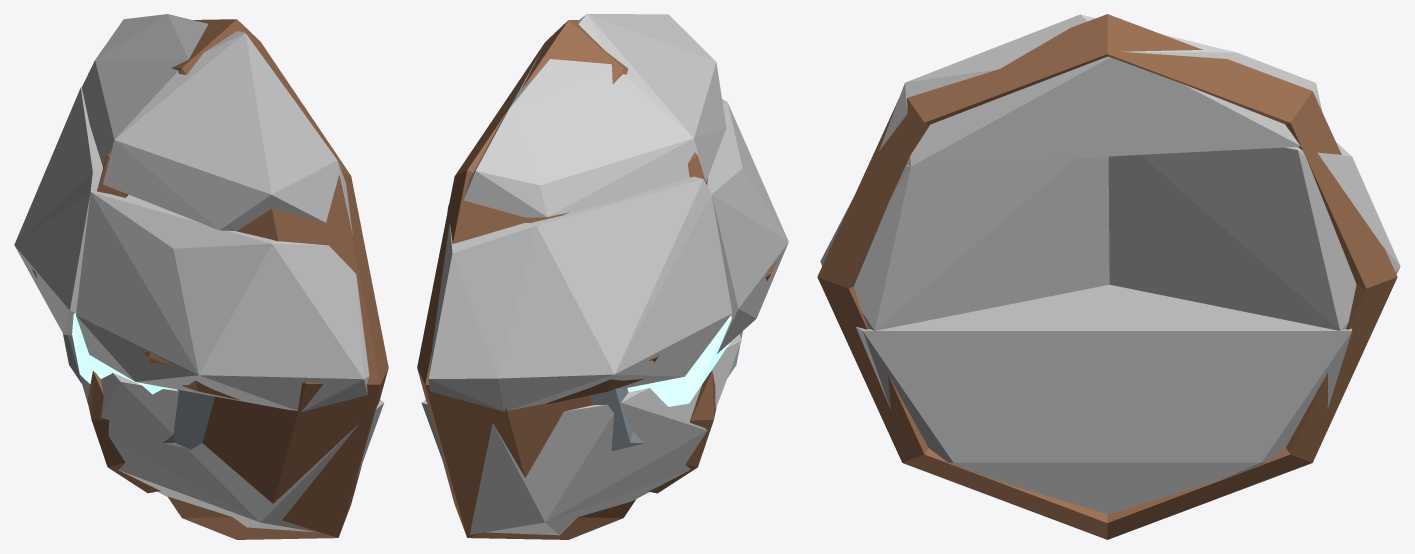
File: SM_Item_Timepiece_01_Cover_01.fbx
The picture shows the model from 3 angles, left to right: view 1: azimuth 30°, elevation 25°; view 2: azimuth 150°, elevation 25°; view 3: azimuth 270°, elevation 25°; orthographic projection.
Visible parts, largest first — view 1: SM_Item_Timepiece_01_Cover_01_ConvexHulls, SM_Item_Timepiece_01_Cover_01; view 2: SM_Item_Timepiece_01_Cover_01_ConvexHulls, SM_Item_Timepiece_01_Cover_01; view 3: SM_Item_Timepiece_01_Cover_01_ConvexHulls, SM_Item_Timepiece_01_Cover_01.
Part boxes in pixels (x1=…): SM_Item_Timepiece_01_Cover_01_ConvexHulls: x1=14, y1=14, x2=384, y2=532; SM_Item_Timepiece_01_Cover_01: x1=32, y1=19, x2=388, y2=539; SM_Item_Timepiece_01_Cover_01_ConvexHulls: x1=421, y1=14, x2=788, y2=535; SM_Item_Timepiece_01_Cover_01: x1=417, y1=20, x2=778, y2=539; SM_Item_Timepiece_01_Cover_01_ConvexHulls: x1=820, y1=14, x2=1400, y2=514; SM_Item_Timepiece_01_Cover_01: x1=817, y1=14, x2=1397, y2=539.
Bounding box in the file's own units: 10.72 × 27.95 × 27.81.
Materials: 2 (1 with a texture image).
